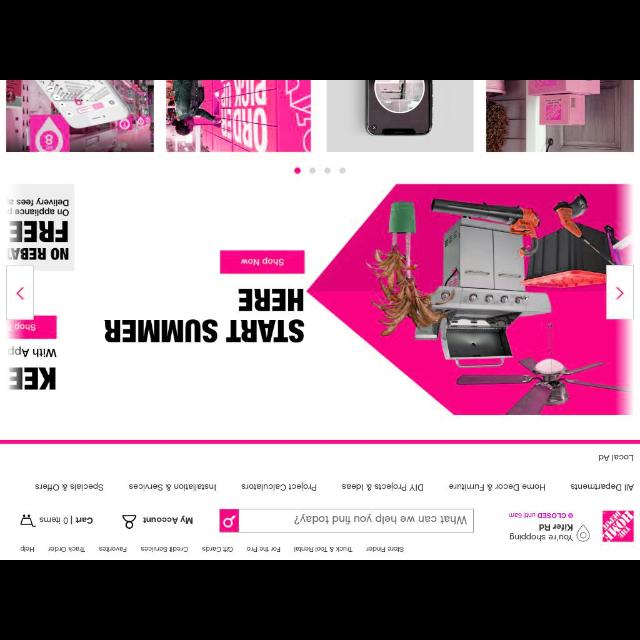button: (6, 264, 32, 320), (606, 266, 632, 318), (221, 509, 239, 533)
icon: (19, 514, 36, 528), (578, 524, 590, 542), (122, 515, 136, 529), (224, 512, 236, 528), (16, 286, 24, 300), (616, 286, 622, 300)
image: (1, 185, 639, 438), (8, 80, 152, 152), (326, 81, 474, 151), (487, 81, 633, 151), (166, 81, 310, 151), (604, 511, 632, 542)
input: (238, 510, 474, 532)
pageindicator: (294, 166, 346, 174)
text: (294, 512, 468, 526), (509, 522, 573, 544), (450, 480, 546, 492), (128, 480, 216, 492), (241, 481, 317, 492), (341, 481, 423, 491), (508, 510, 574, 520), (571, 482, 633, 492), (292, 544, 353, 554), (38, 516, 94, 526), (142, 515, 194, 525), (139, 544, 189, 554), (36, 484, 104, 491), (48, 544, 86, 554), (245, 544, 282, 554), (598, 452, 634, 462), (202, 544, 234, 554), (366, 546, 404, 554), (99, 546, 128, 552), (20, 546, 34, 554)
